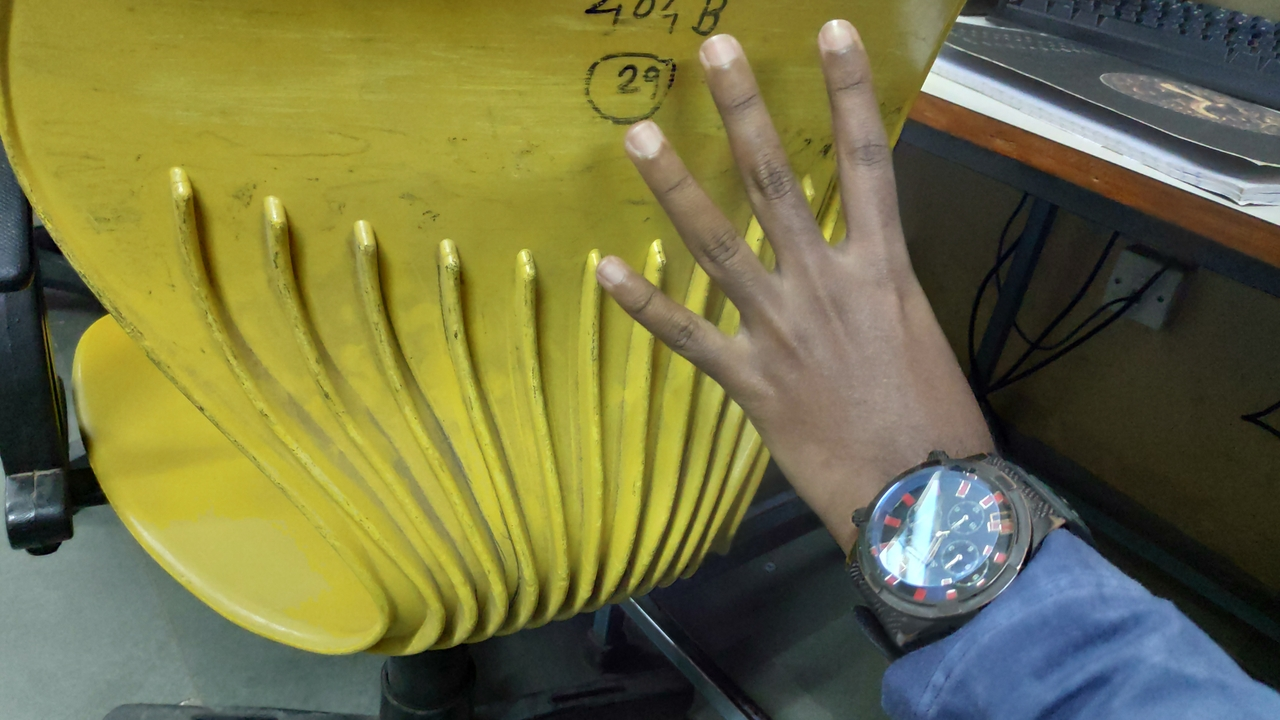fingertip: (574, 236, 646, 298), (616, 108, 680, 164), (818, 12, 870, 72), (700, 30, 752, 82)
